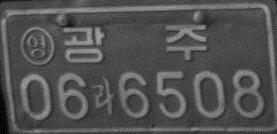0: (192, 70, 227, 119), (19, 72, 52, 121)
5: (155, 71, 187, 120)
6: (56, 72, 90, 121), (117, 71, 150, 118)
8: (231, 69, 265, 119)
광주_D: (61, 22, 208, 64)
라: (90, 75, 114, 115)
영: (19, 26, 55, 66)
